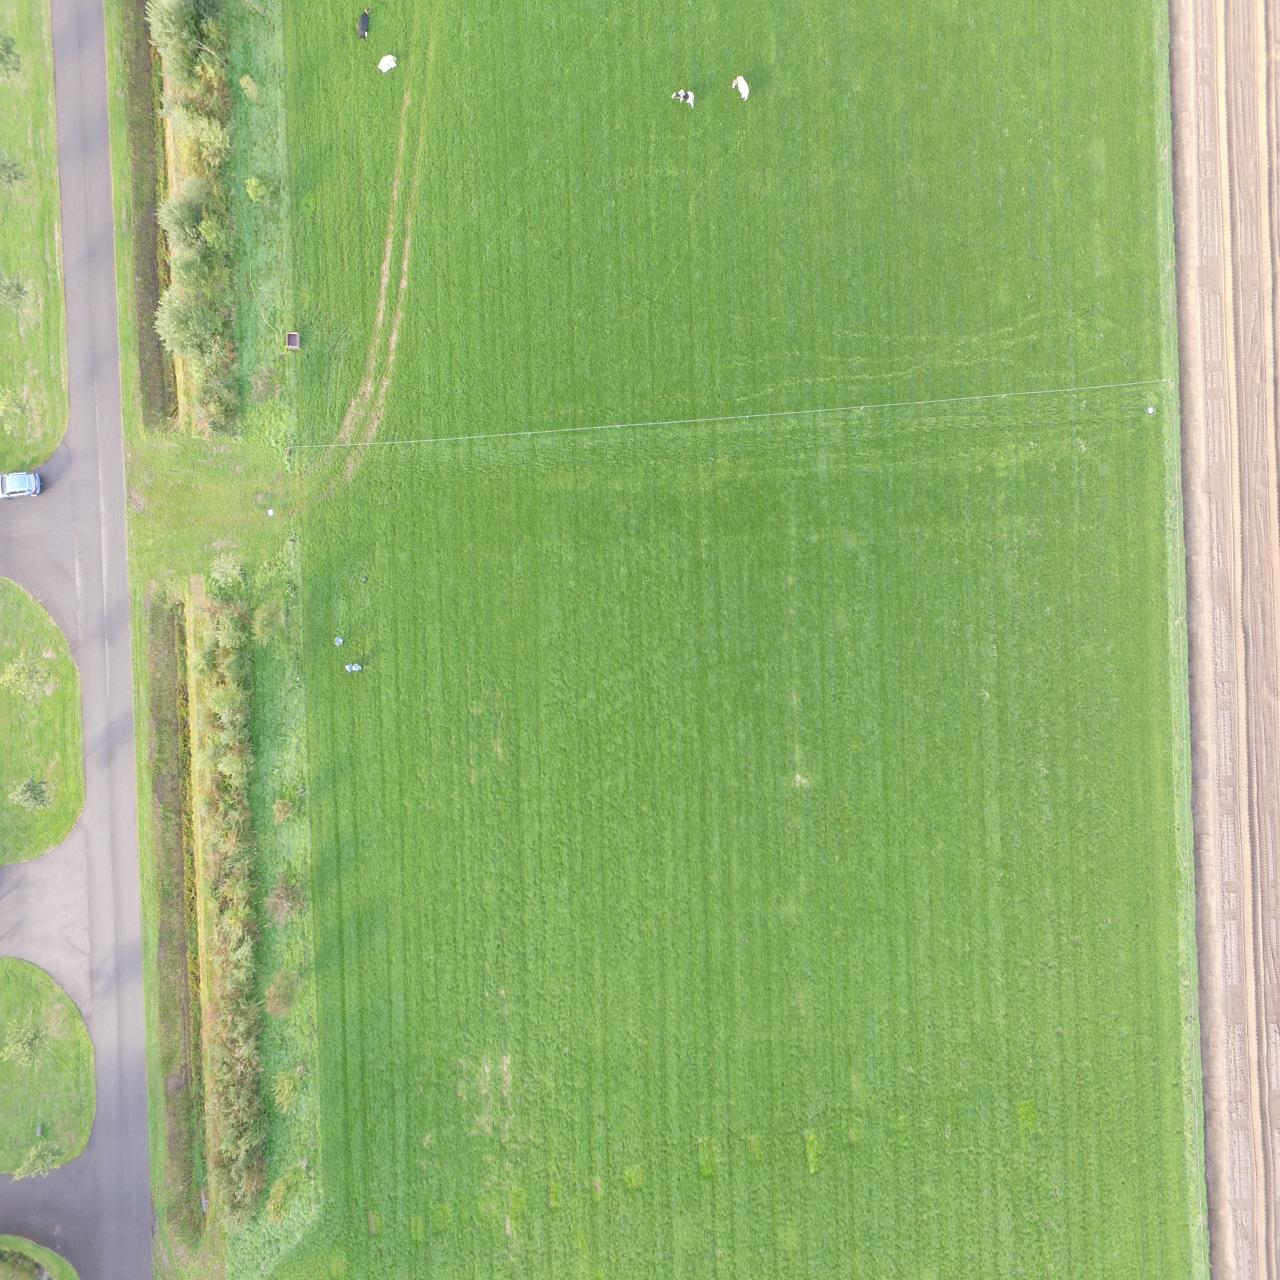cow: (354, 5, 372, 43), (729, 73, 750, 101), (375, 54, 397, 73), (670, 90, 694, 108)
